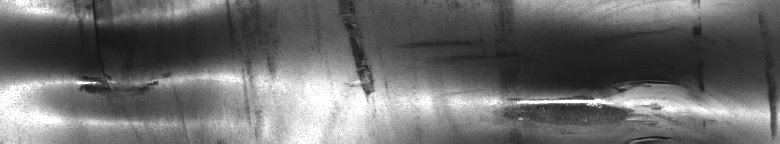ke: (36, 4, 273, 127)
